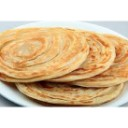parota: (1, 30, 89, 79), (13, 81, 124, 107), (61, 26, 116, 78), (78, 32, 128, 85)
